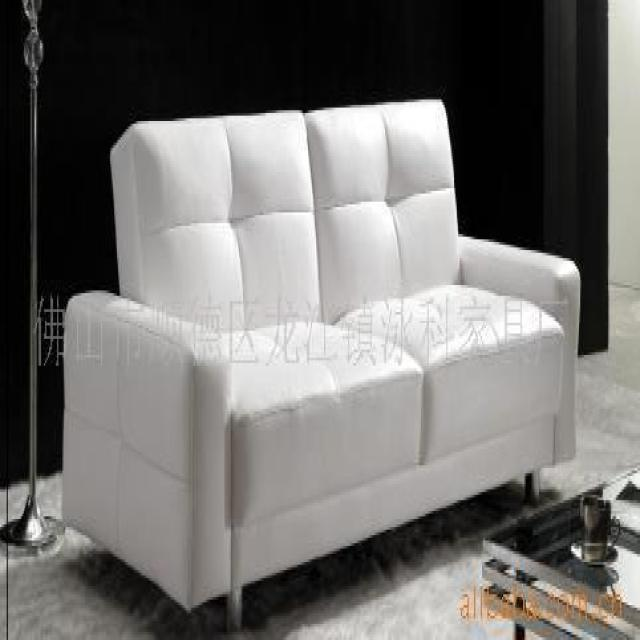sofa: (57, 92, 580, 628)
